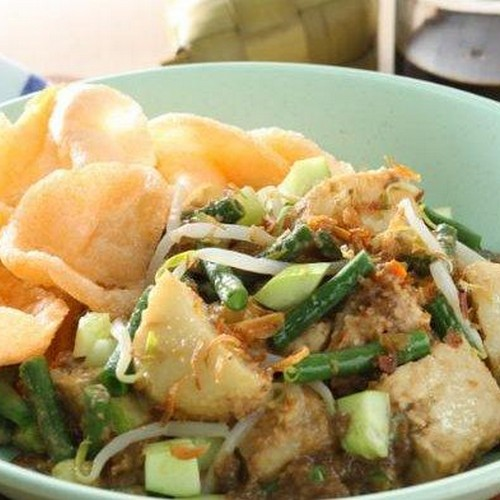tipat cantok: (23, 114, 466, 468)
